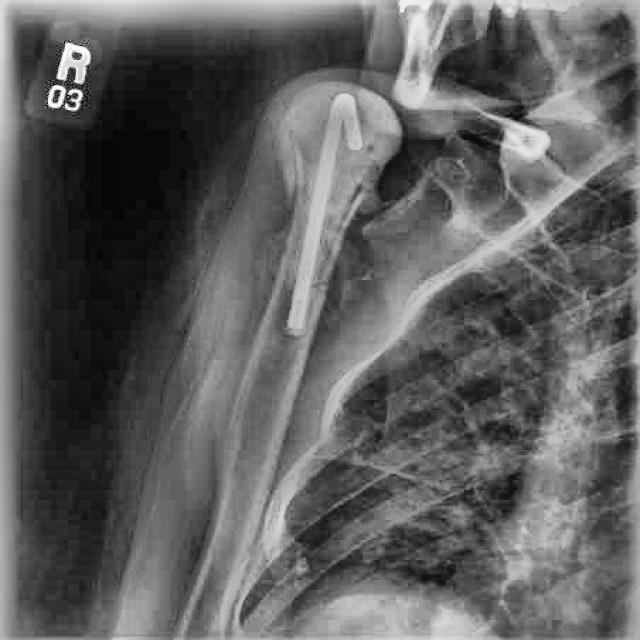shoulder fracture: (257, 142, 318, 227)
